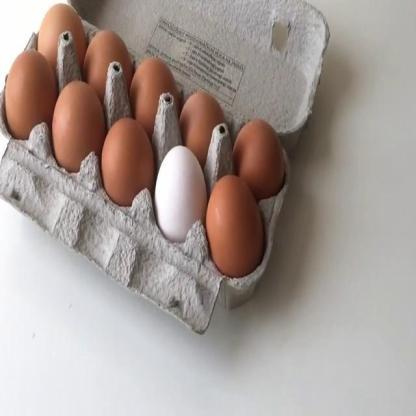egg: (223, 92, 292, 202), (150, 137, 209, 259), (99, 103, 158, 225), (53, 66, 109, 189), (1, 35, 57, 154), (207, 169, 270, 274), (85, 12, 134, 104), (29, 3, 96, 68), (180, 74, 230, 158), (132, 50, 188, 124)
